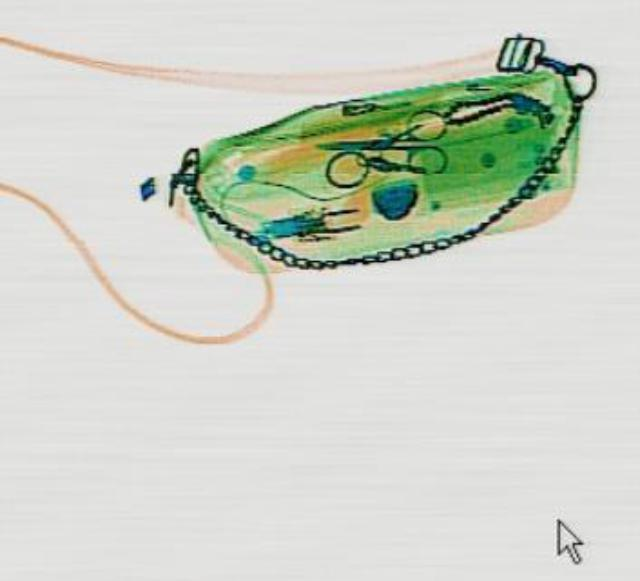Scissors: (309, 105, 447, 178)
